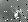person: (14, 10, 22, 20)
